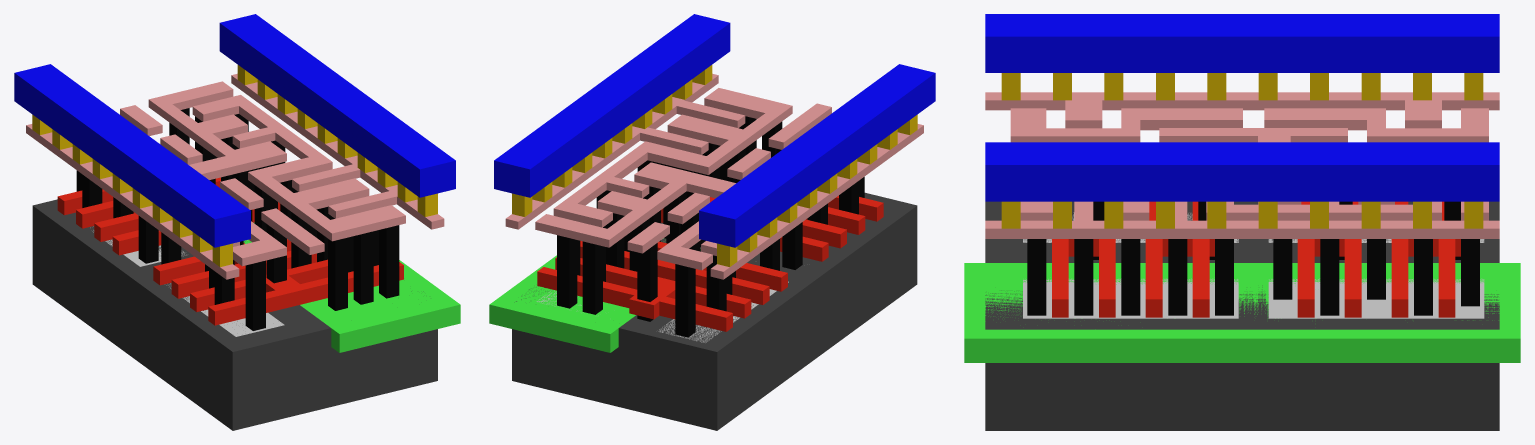
File: sky130_fd_sc_hd__a22oi_2.obj
3 views of the same model, side by side, from view 1: azimuth 30°, elevation 25°; view 2: azimuth 150°, elevation 25°; view 3: azimuth 270°, elevation 25° (orthographic). The views are drawn at different scales.
Visible parts, largest first — view 1: subs, metal1, li, licon, poly, nwell, mcon, diff; view 2: subs, metal1, li, licon, poly, nwell, mcon, diff; view 3: metal1, subs, li, nwell, licon, poly, mcon, tap.
Part boxes in pixels (box(x1,y1,x2,y2)): subs: box(32, 199, 437, 430); metal1: box(14, 14, 455, 247); li: box(26, 73, 444, 279); licon: box(76, 108, 399, 330); poly: box(57, 177, 403, 325); nwell: box(243, 222, 460, 352); mcon: box(32, 65, 437, 266); diff: box(90, 226, 284, 336); subs: box(512, 192, 917, 430); metal1: box(494, 14, 935, 247); li: box(505, 73, 923, 279); licon: box(557, 116, 864, 337); poly: box(537, 195, 883, 331); nwell: box(489, 238, 665, 352); mcon: box(512, 65, 917, 266); diff: box(658, 281, 788, 342); metal1: box(985, 14, 1499, 201); subs: box(985, 201, 1499, 430); li: box(985, 92, 1499, 238); nwell: box(964, 263, 1520, 362); licon: box(1027, 201, 1479, 315); poly: box(1052, 201, 1460, 317); mcon: box(1001, 73, 1483, 228); tap: box(1023, 278, 1484, 318).
Bounding box in the file's own units: 3.2 × 2.74 × 4.98.
